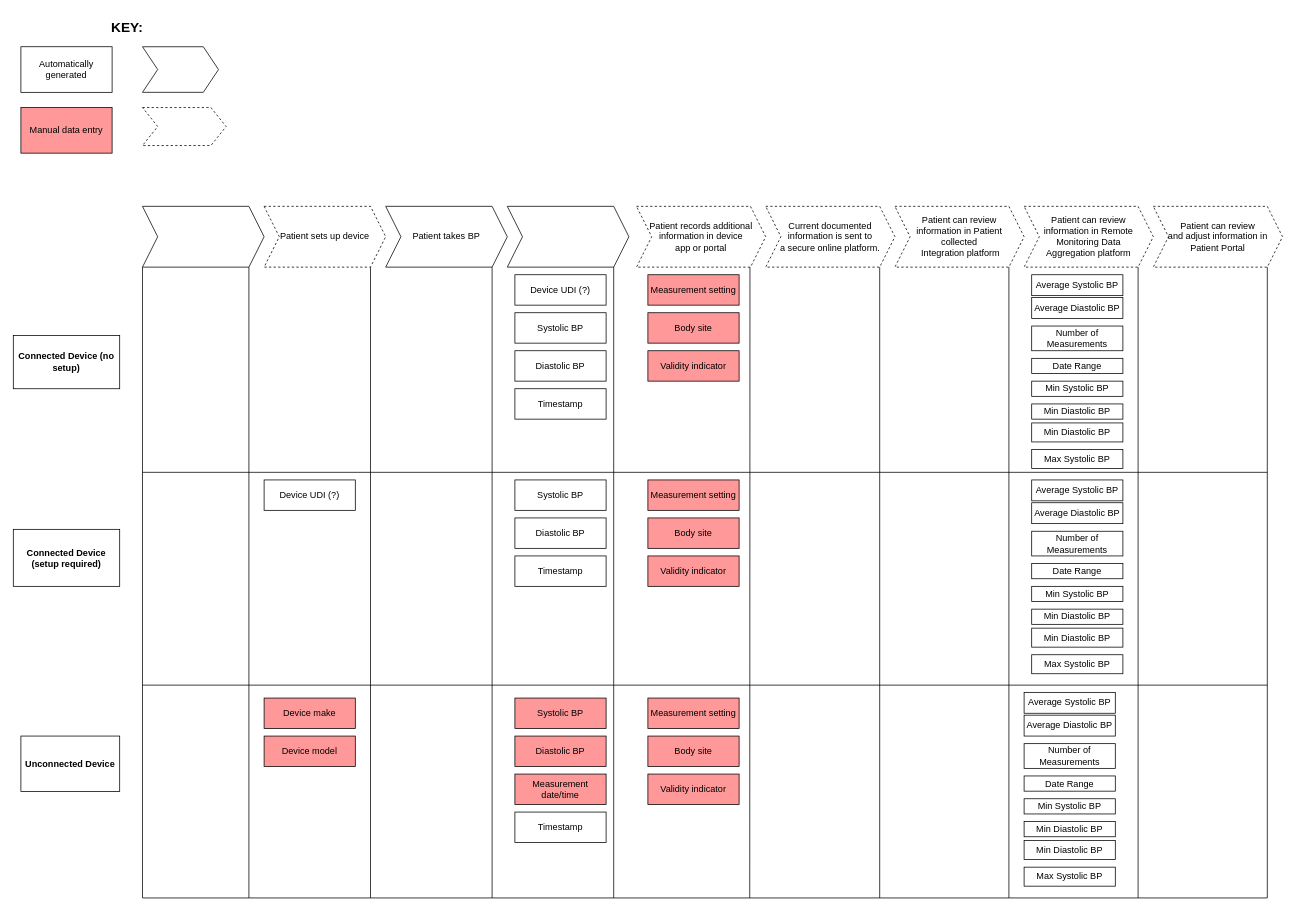
Image size: 1296x912. Some labels were removed from this diagram. Each missing label, with the centre of its shape:
"BP is recorded" belongs at point (568, 236).
"Patient obtains device" belongs at point (203, 236).
"Standard in workflow" belongs at point (180, 69).
"Variable in workflow" belongs at point (184, 126).
